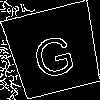G: (28, 25, 78, 81)
